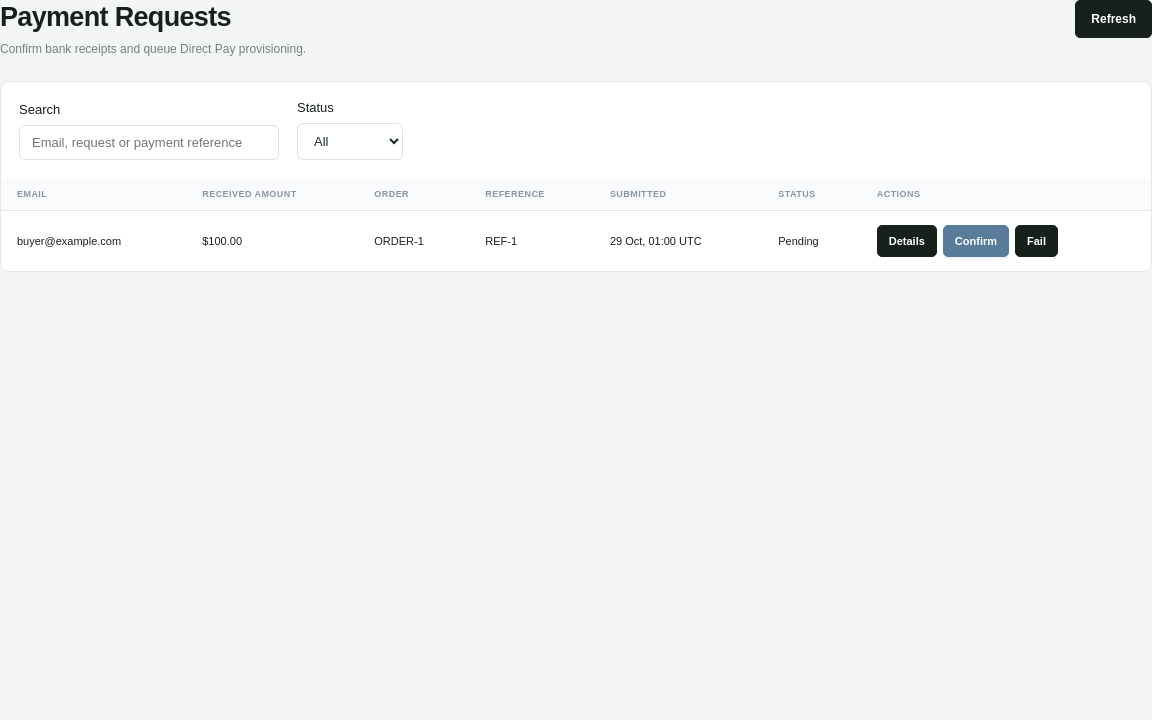
Test case: Console payment review › uses Confirm for Direct Pay and queues provisioning, never fabricating a running instance
The width and height of the screenshot is (1152, 720).
Click the button "Confirm" at (976, 241), box [943,225,1009,257]
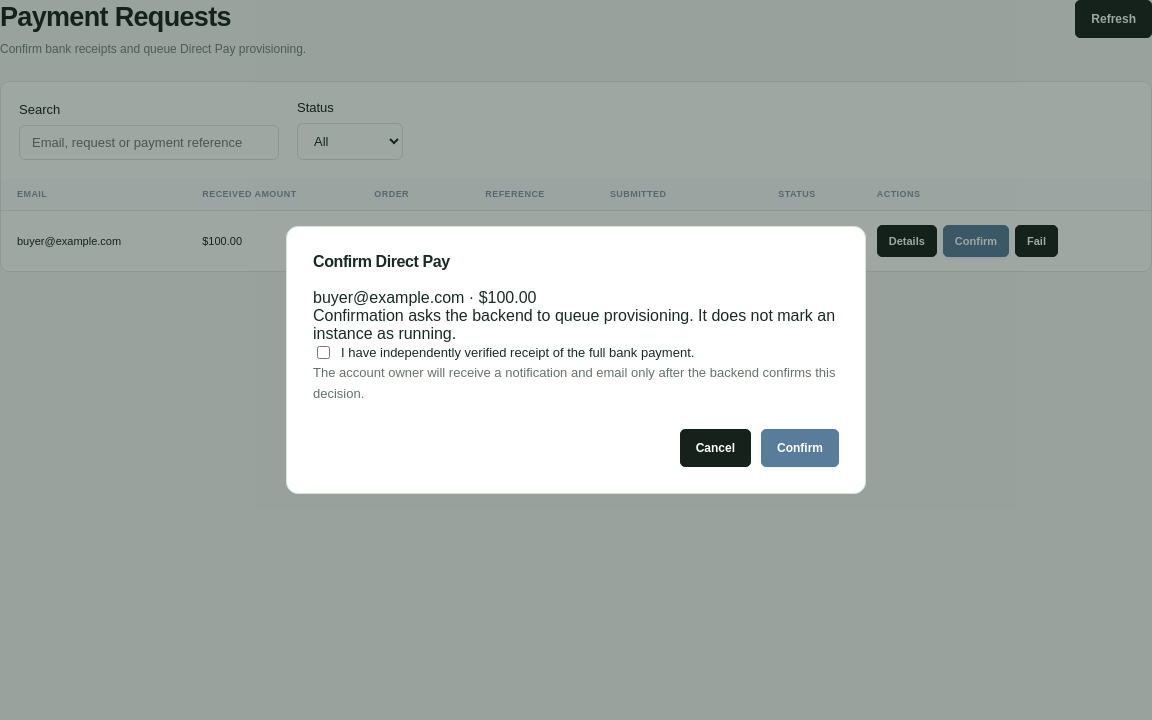
Click the checkbox at (324, 353), box [317,346,330,360]
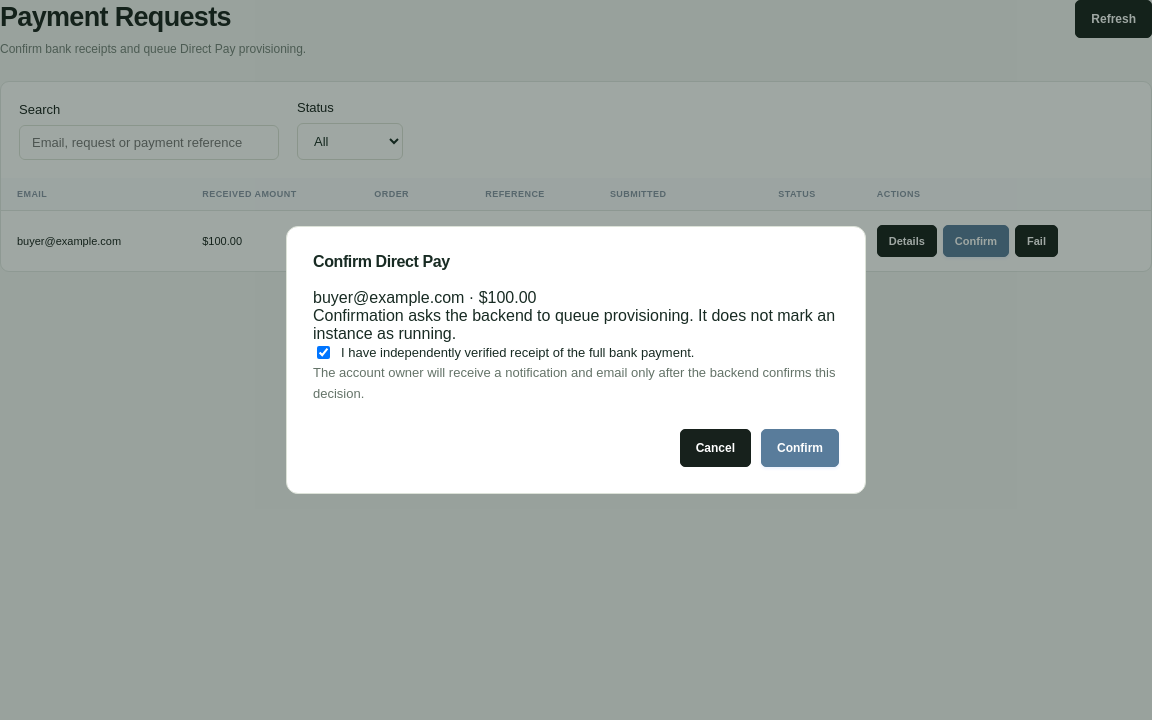
Click the button "Confirm" at (800, 448), box [761,428,839,466]
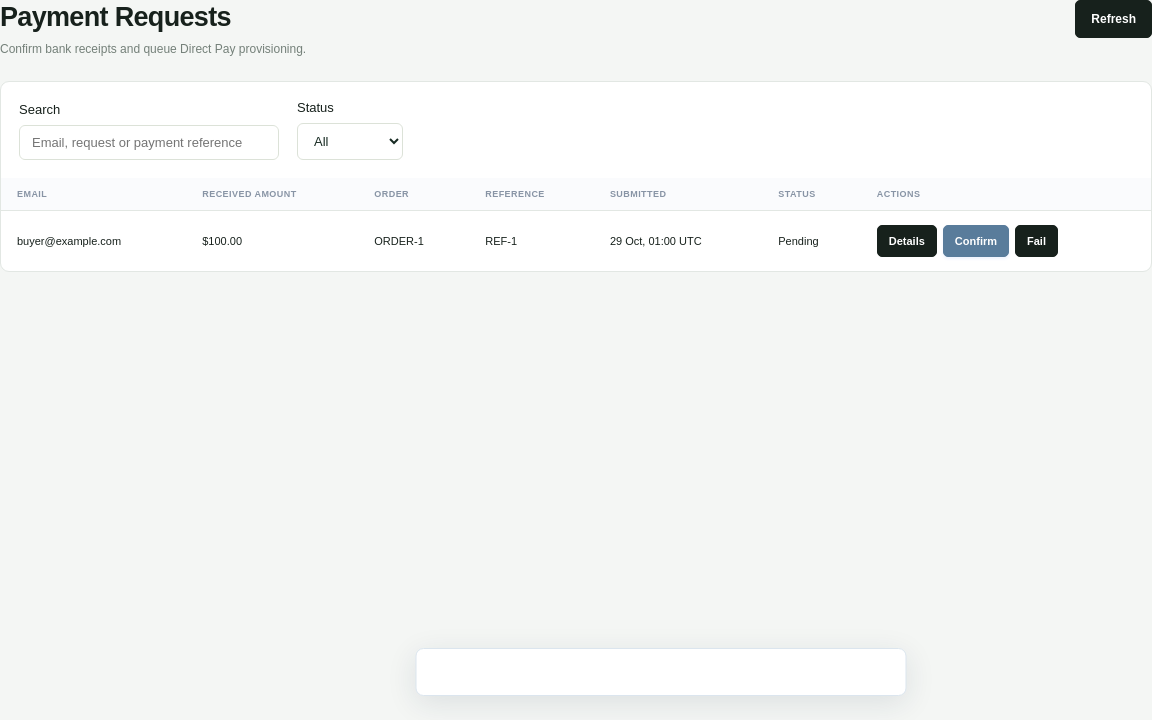
Check: the text "Running" is gone
